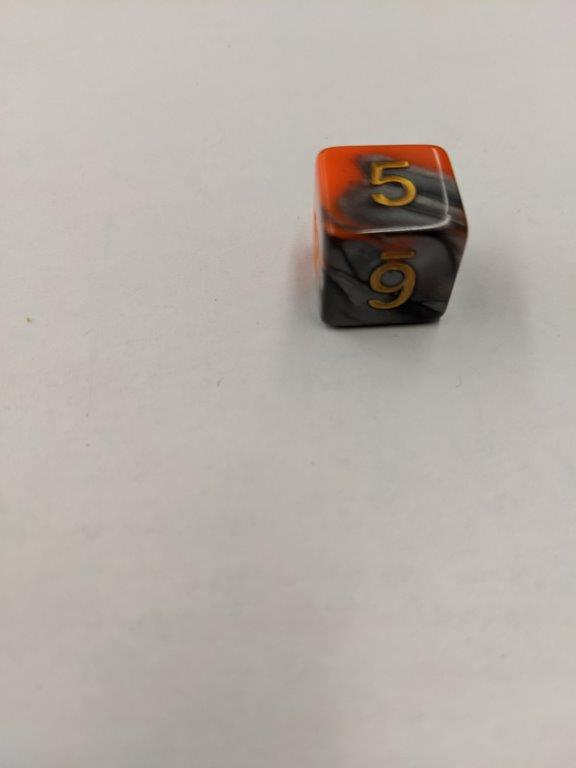d6-5: (308, 143, 470, 331)
